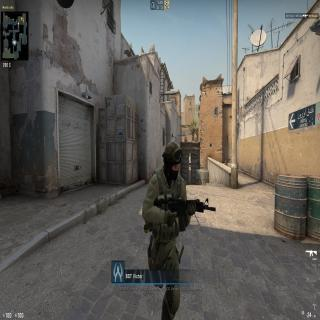CT-Head: (160, 139, 183, 184)
